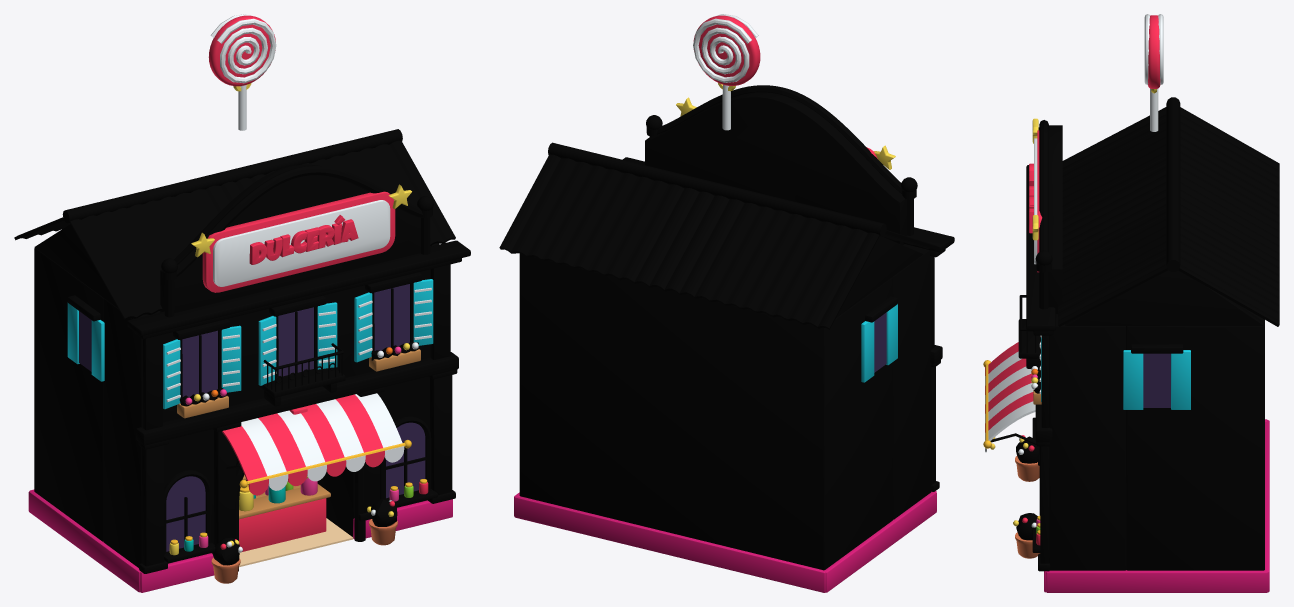
Rendered from lobby_shop_dulceria.fbx.
The picture shows the model from 3 angles, left to right: view 1: azimuth 30°, elevation 25°; view 2: azimuth 150°, elevation 25°; view 3: azimuth 270°, elevation 25°; orthographic projection.
Parts seen in each view (by area): view 1: lobby_shop_dulceria, lobby_shop_dulceria_Sign; view 2: lobby_shop_dulceria; view 3: lobby_shop_dulceria, lobby_shop_dulceria_Sign.
Boxes of the visible parts, x1,y1,x2,y2 form: lobby_shop_dulceria: (14, 14, 470, 592); lobby_shop_dulceria_Sign: (191, 184, 411, 292); lobby_shop_dulceria: (499, 14, 954, 592); lobby_shop_dulceria: (983, 14, 1279, 592); lobby_shop_dulceria_Sign: (1029, 118, 1042, 272).
Bounding box in the file's own units: 25 × 35.73 × 19.25.
Materials: 2 (2 with a texture image).
